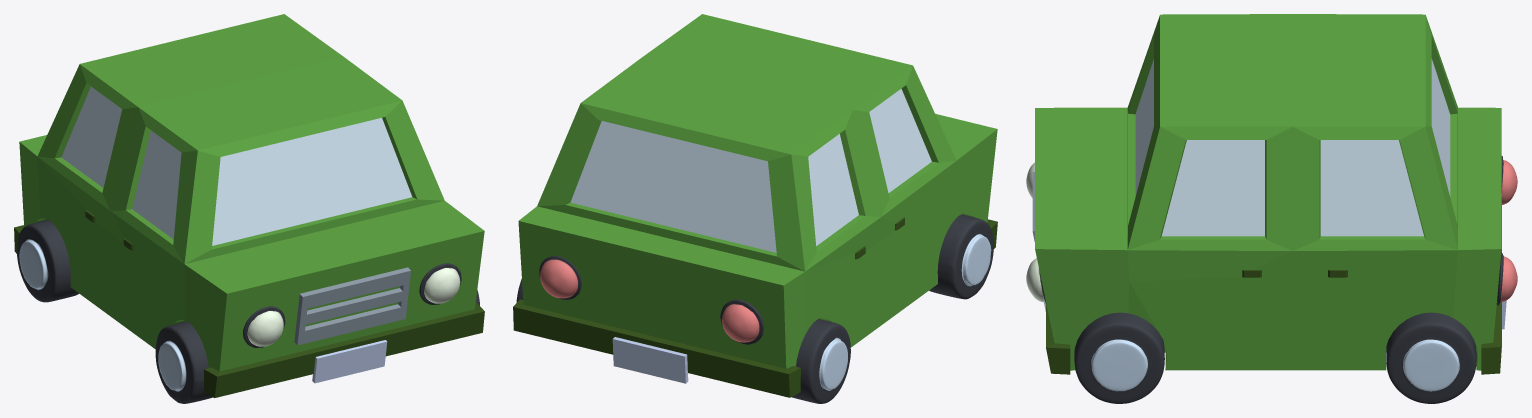
File: green_car.fbx
The picture shows the model from 3 angles, left to right: view 1: azimuth 30°, elevation 25°; view 2: azimuth 150°, elevation 25°; view 3: azimuth 270°, elevation 25°; orthographic projection. The views are drawn at different scales.
Visible parts, largest first — view 1: car, wheels, plate; view 2: car, wheels, plate; view 3: car, wheels.
Part boxes in pixels (<box>): car: <box>14,14,484,397</box>; wheels: <box>16,219,479,403</box>; plate: <box>294,267,410,383</box>; car: <box>513,14,997,397</box>; wheels: <box>516,214,993,403</box>; plate: <box>612,337,688,383</box>; car: <box>1035,14,1501,374</box>; wheels: <box>1026,156,1517,403</box>.
Bounding box in the file's own units: 235 × 173 × 300.
